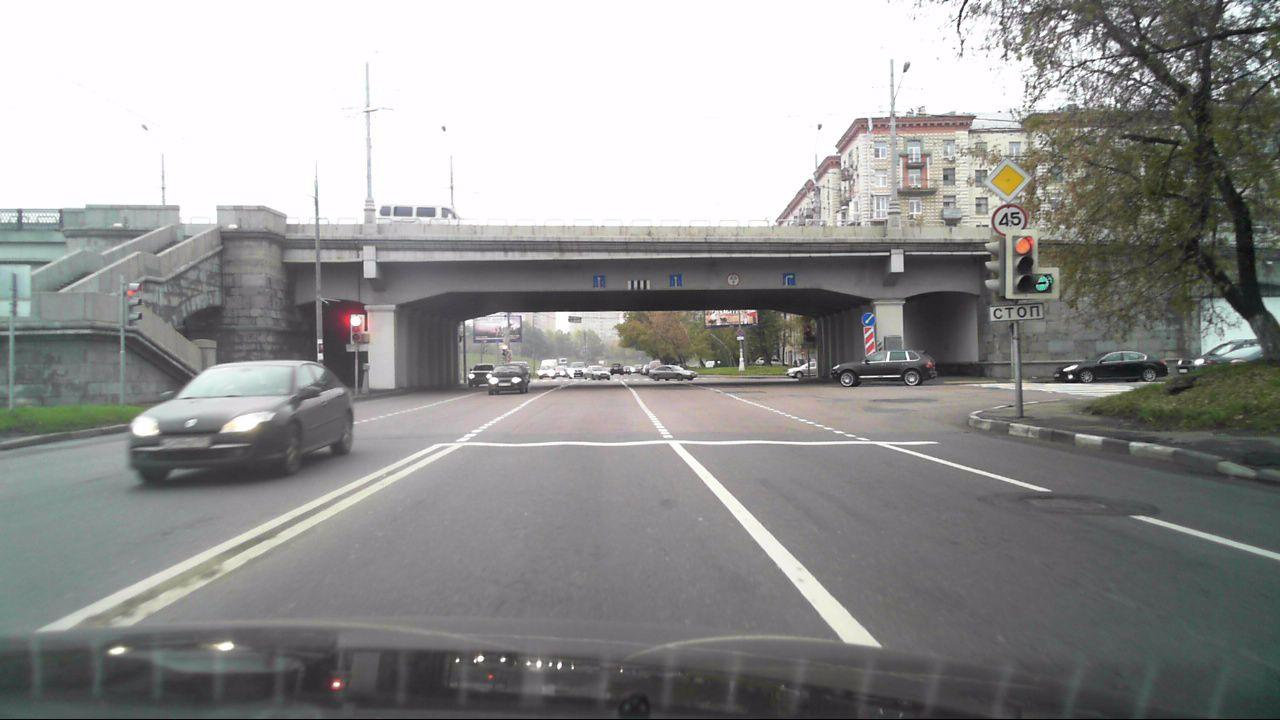2_1: (983, 157, 1031, 200)
3_13: (990, 203, 1027, 237), (726, 272, 740, 286)
4_2_2: (862, 312, 876, 325)
5_15_2: (781, 272, 800, 286), (670, 271, 683, 288), (592, 274, 606, 288)
6_16: (989, 303, 1043, 321)
8_22_2: (864, 325, 877, 354)
